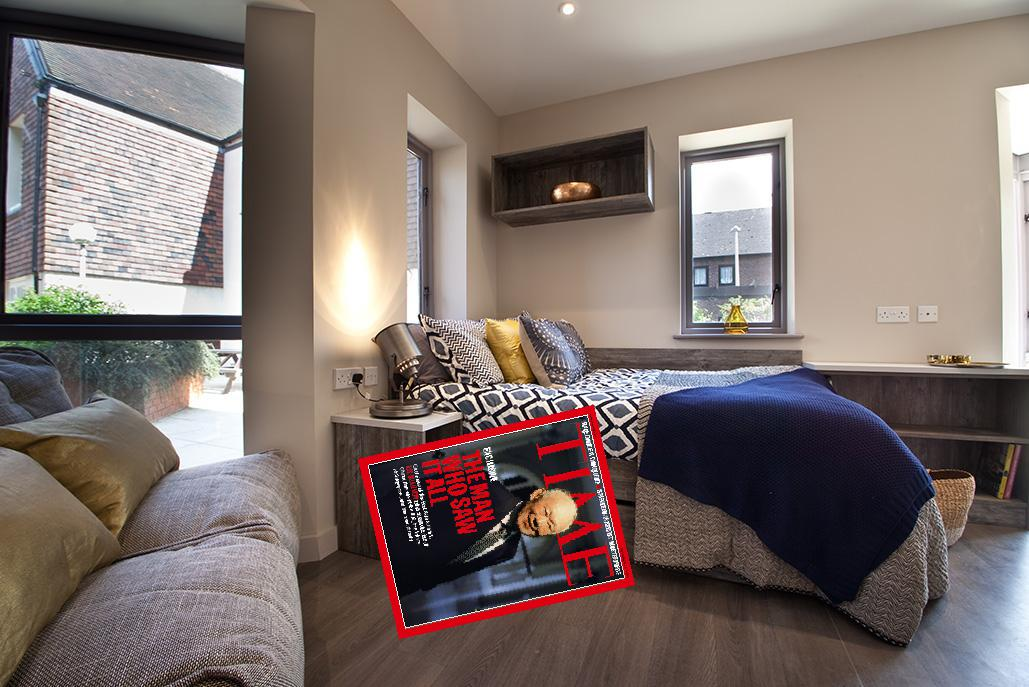times: (354, 402, 644, 650)
